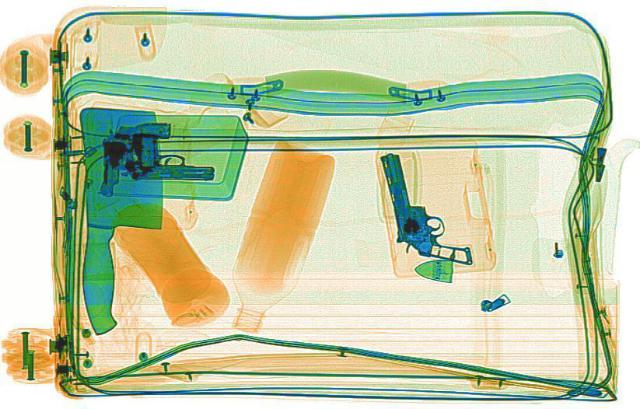Gun: (374, 147, 471, 268), (98, 122, 170, 194), (126, 132, 217, 178)
Knife: (52, 103, 172, 338)
